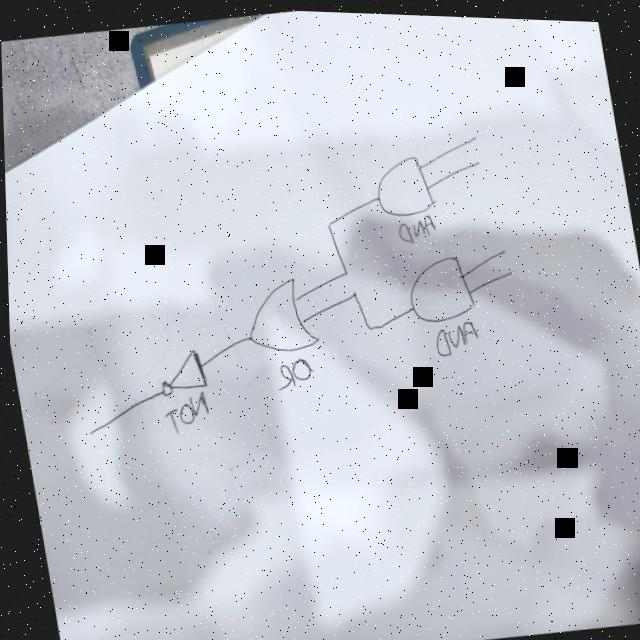junction: (323, 214, 336, 231), (363, 317, 373, 333), (350, 285, 358, 298), (342, 265, 349, 276)
terminal: (84, 427, 94, 436), (507, 262, 516, 272), (473, 155, 482, 164), (470, 129, 478, 138), (499, 243, 507, 252)
text: (157, 386, 213, 436), (429, 313, 481, 356), (393, 207, 440, 244), (271, 352, 316, 390)
